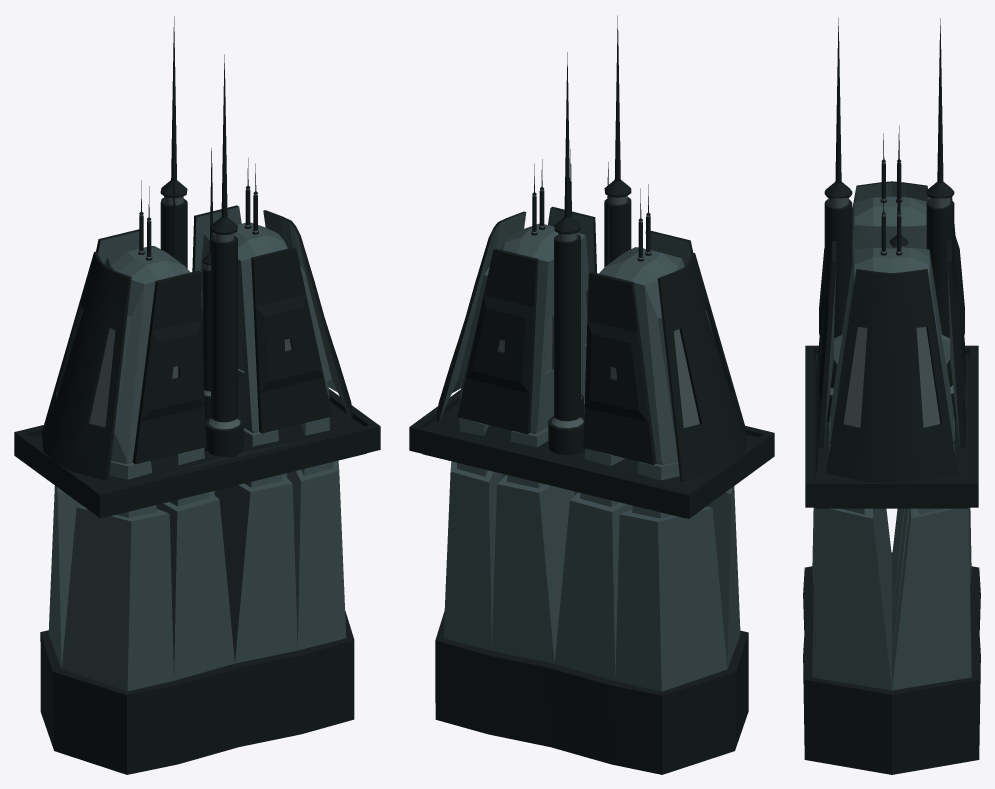
Rendered from TwinHouseTall.fbx.
The picture shows the model from 3 angles, left to right: view 1: azimuth 30°, elevation 25°; view 2: azimuth 150°, elevation 25°; view 3: azimuth 270°, elevation 25°; orthographic projection.
Visible parts, largest first — view 1: TwinHouse1; view 2: TwinHouse1; view 3: TwinHouse1.
Boxes of the visible parts, x1,y1,x2,y2 form: TwinHouse1: (14, 16, 380, 774); TwinHouse1: (409, 15, 774, 774); TwinHouse1: (803, 17, 980, 774).
Bounding box in the file's own units: 12.14 × 27.51 × 6.4.
